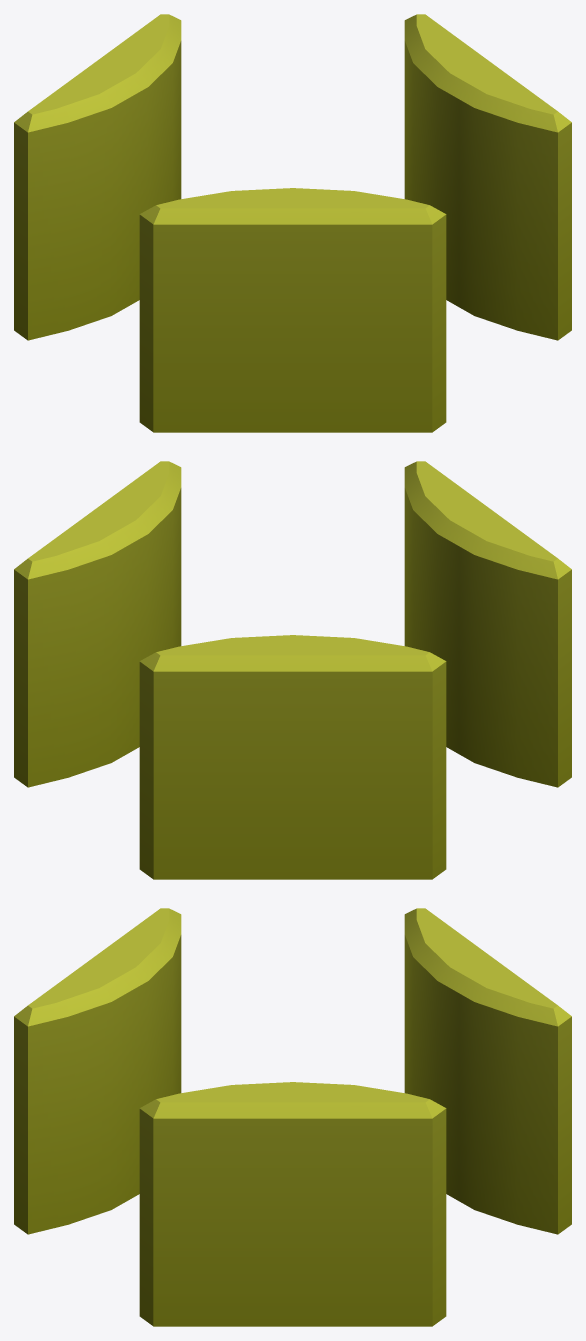
The model's file is hex_river_D_waterless.gltf.
The picture shows the model from 3 angles, top to bottom: view 1: azimuth 30°, elevation 25°; view 2: azimuth 150°, elevation 25°; view 3: azimuth 270°, elevation 25°; orthographic projection.
Visible parts, largest first — view 1: hex_river_D_waterless; view 2: hex_river_D_waterless; view 3: hex_river_D_waterless.
Part boxes in pixels (box(x1,y1,x2,y2)): hex_river_D_waterless: box(14, 14, 571, 432); hex_river_D_waterless: box(14, 461, 571, 879); hex_river_D_waterless: box(14, 908, 571, 1326).
Bounding box in the file's own units: 2 × 1 × 2.31.
1 material, 1 textured.
